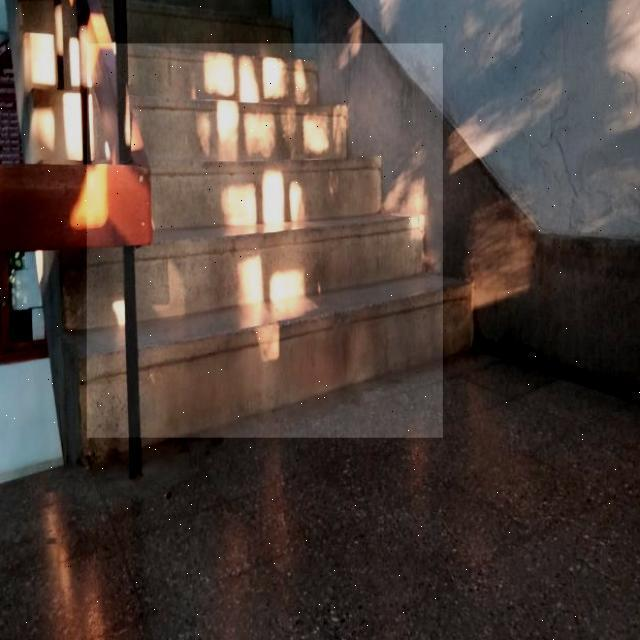stair: (87, 43, 443, 438)
